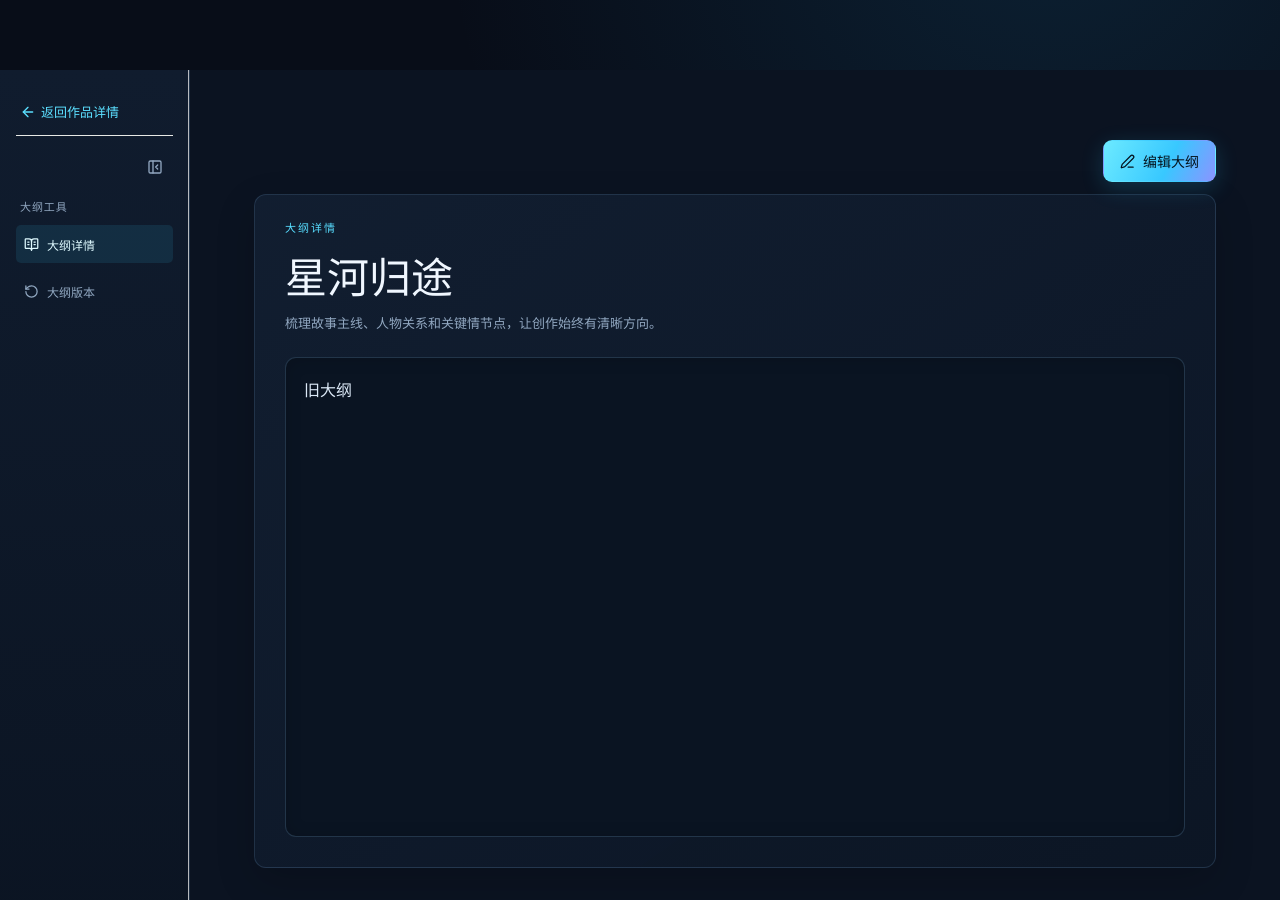
Scenario: 大纲详情页 › 可以保存大纲并退出编辑模式留在当前页
Check: the text "旧大纲" is shown, box [285, 357, 1185, 837]
Click the button "编辑大纲" at (1160, 161), box [1103, 140, 1216, 182]
(page scrolled)
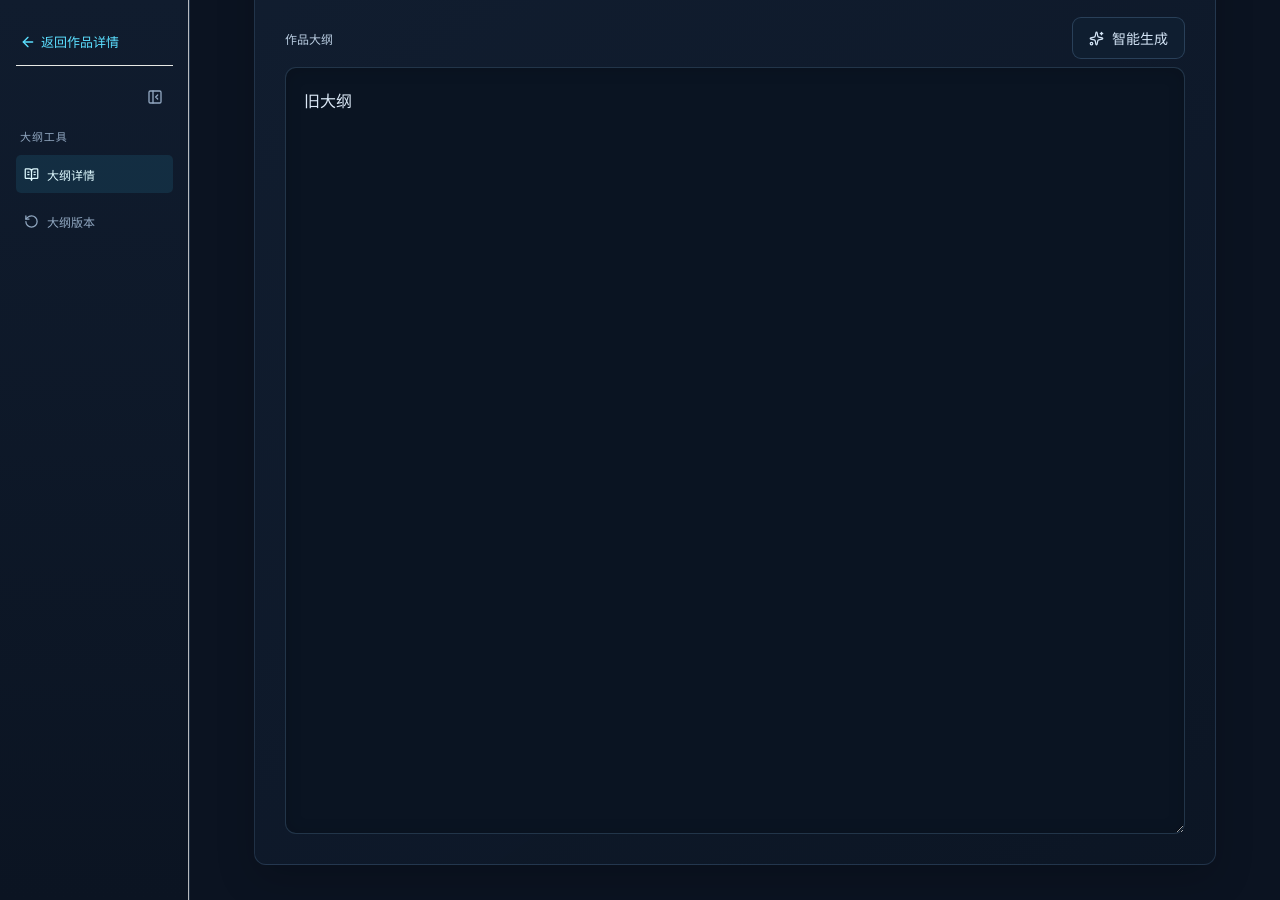
Replace the text in the text box named "作品大纲" with "新大纲" at (735, 451), box [285, 67, 1185, 834]
(page scrolled)
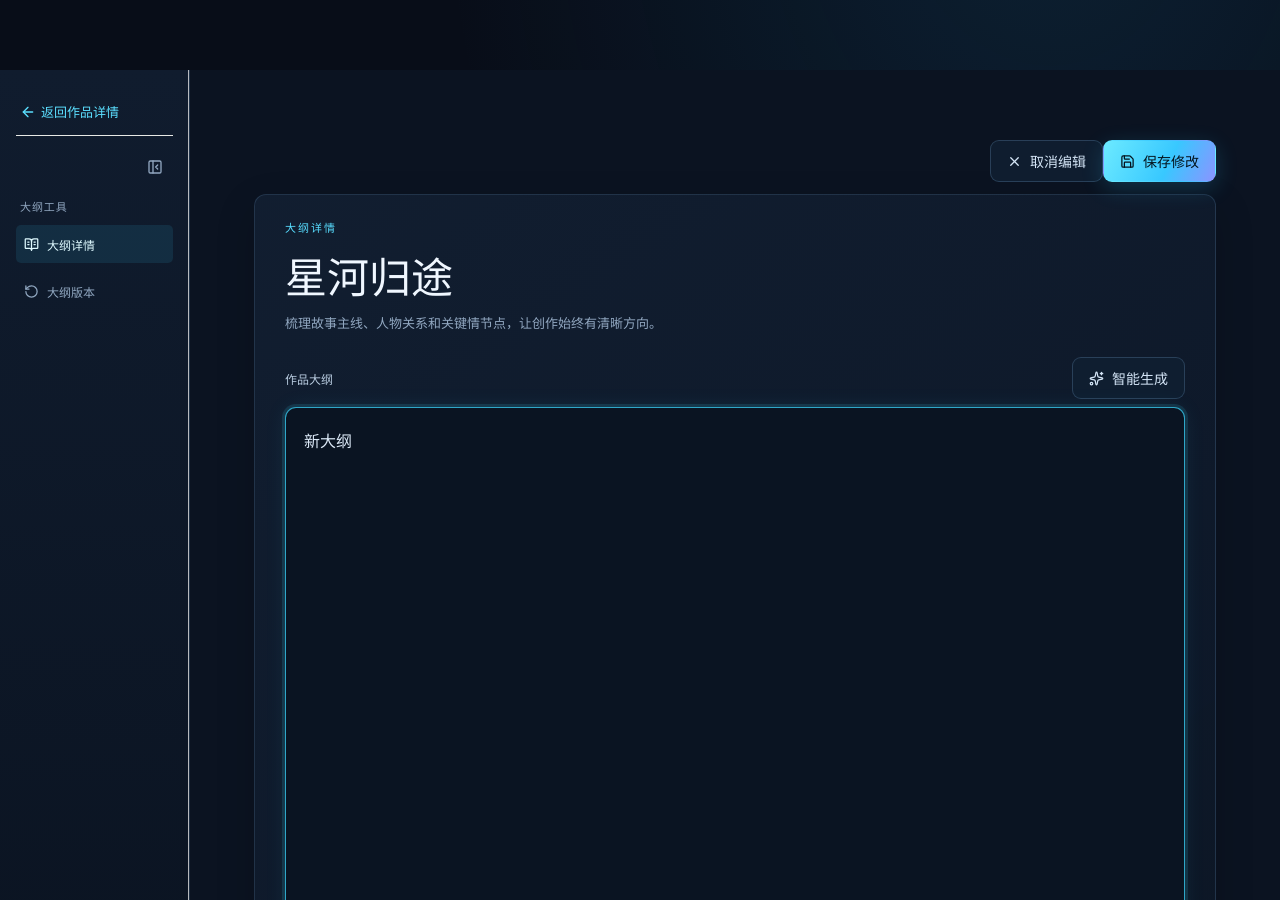
Click the button "保存修改" at (1160, 161), box [1103, 140, 1216, 182]
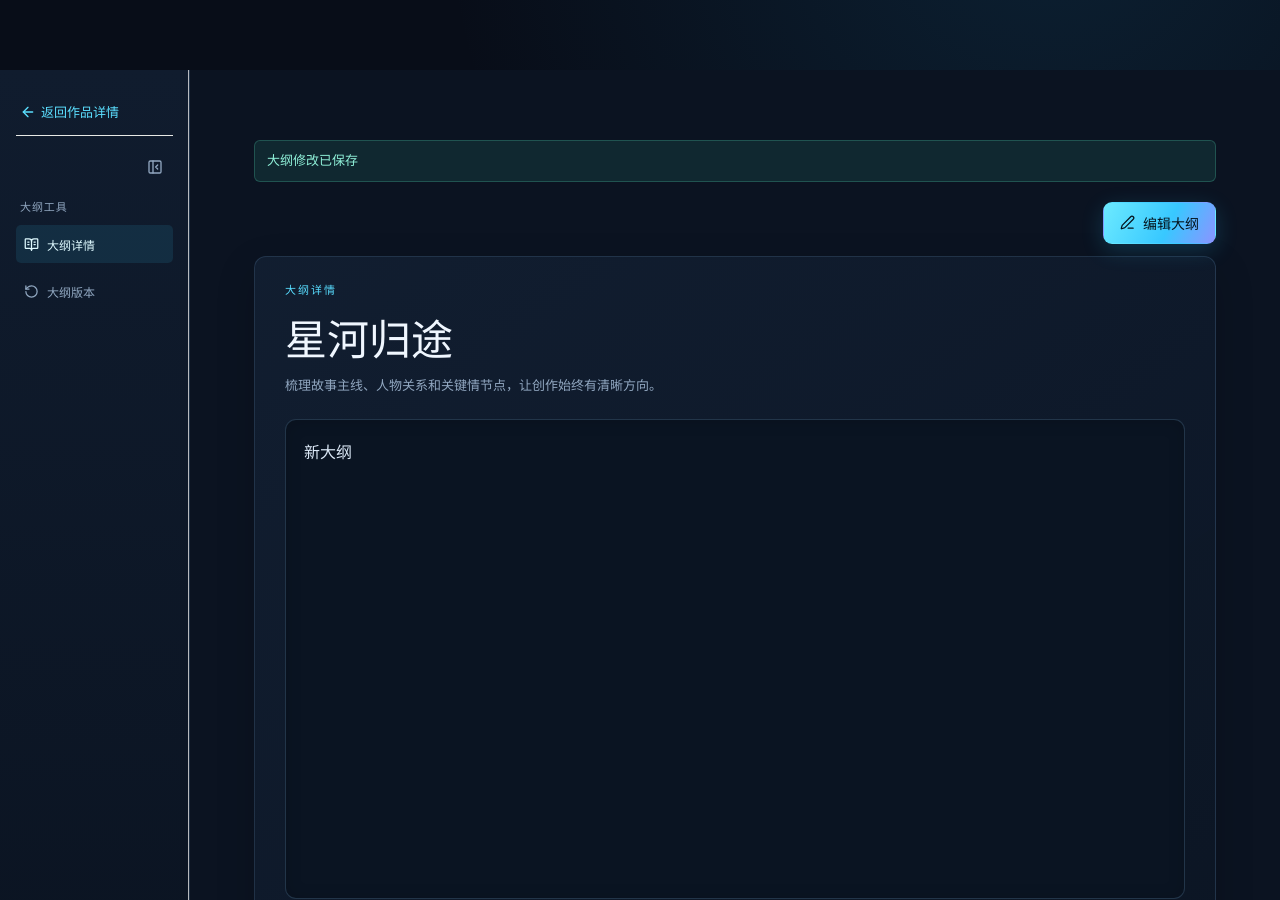
Check: the button "编辑大纲" is shown, box [1103, 202, 1216, 244]
Check: the text "新大纲" is shown, box [285, 418, 1185, 898]
